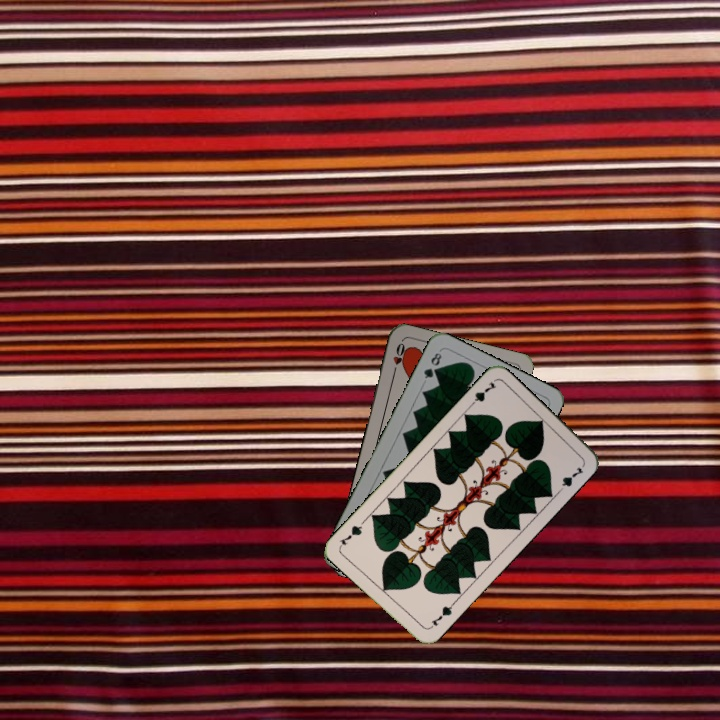G7: (465, 377, 499, 410), (425, 599, 457, 632)
G8: (420, 348, 444, 381)
HO: (389, 339, 409, 378)
